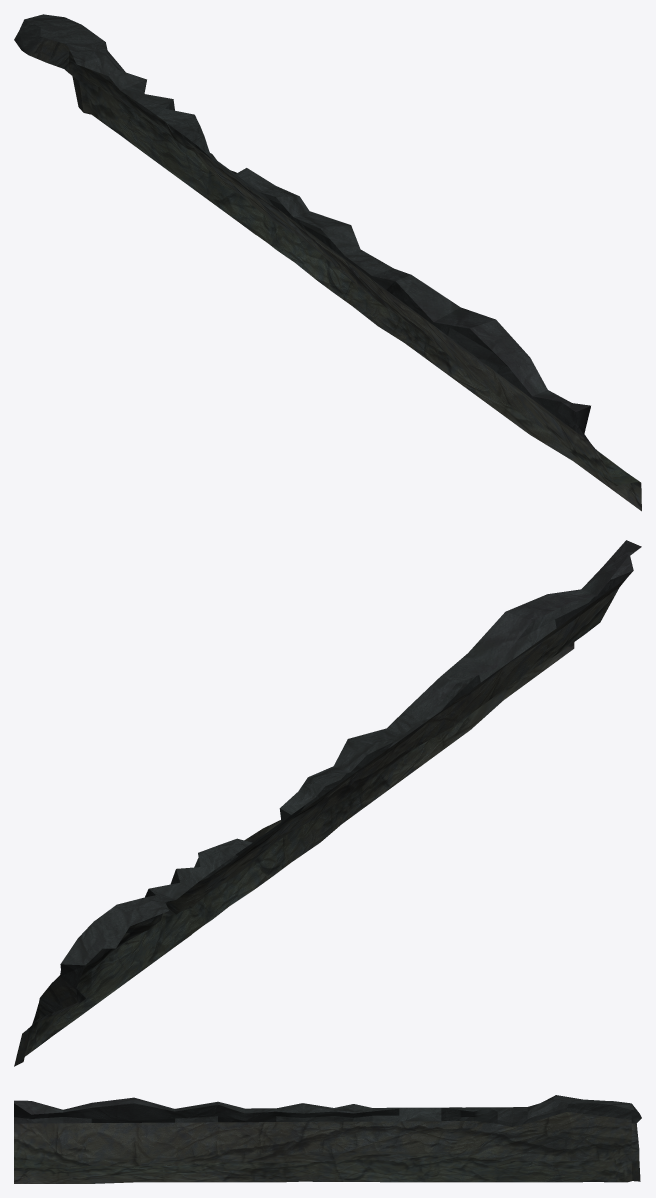
File: BeachCliff.fbx
3 renders of one model, top to bottom at view 1: azimuth 30°, elevation 25°; view 2: azimuth 150°, elevation 25°; view 3: azimuth 270°, elevation 25°, orthographic. The views are drawn at different scales.
Visible parts, largest first — view 1: BeachCliff; view 2: BeachCliff; view 3: BeachCliff.
Boxes of the visible parts, <box> form: BeachCliff: <box>14,14,641,511</box>; BeachCliff: <box>14,540,641,1066</box>; BeachCliff: <box>14,1095,641,1183</box>.
Bounding box in the file's own units: 1042 × 1381 × 11273.
